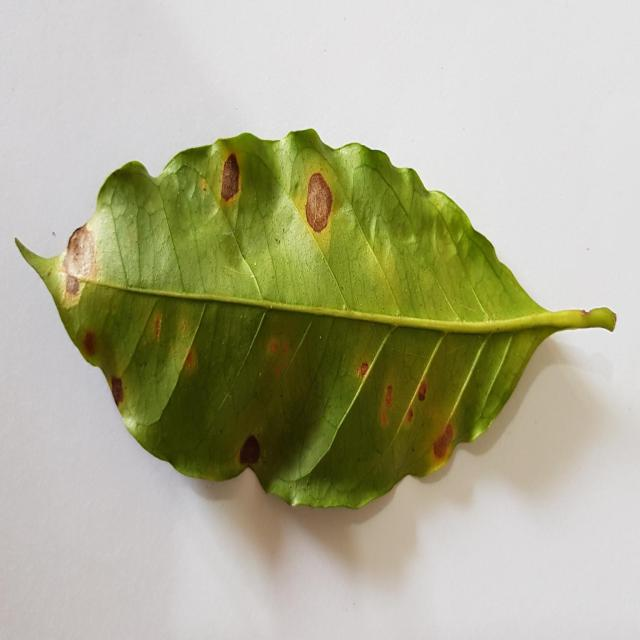Enfermedad-Mancha-de-hierro: (14, 129, 618, 513)
